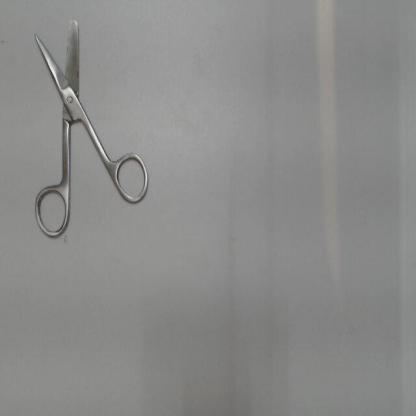Dressing Scissors: (26, 9, 154, 246)
